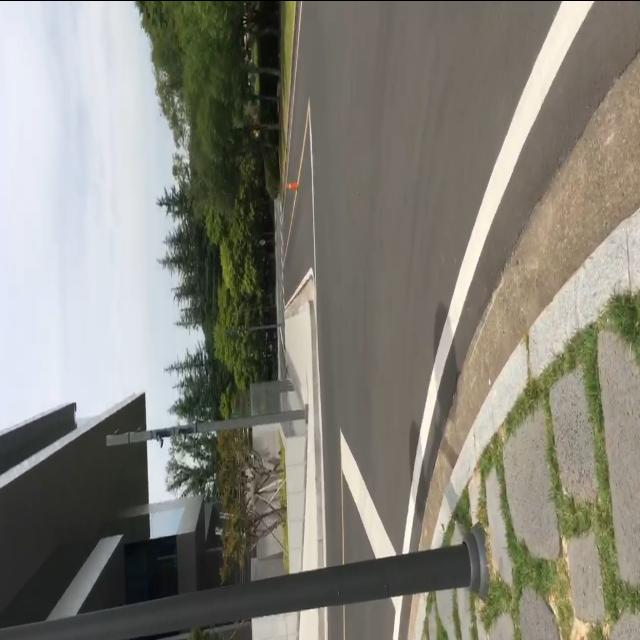obstacle: (0, 532, 480, 640), (107, 403, 306, 444)
road: (292, 0, 640, 564), (318, 593, 427, 640)
sidewalk: (408, 203, 640, 640)
